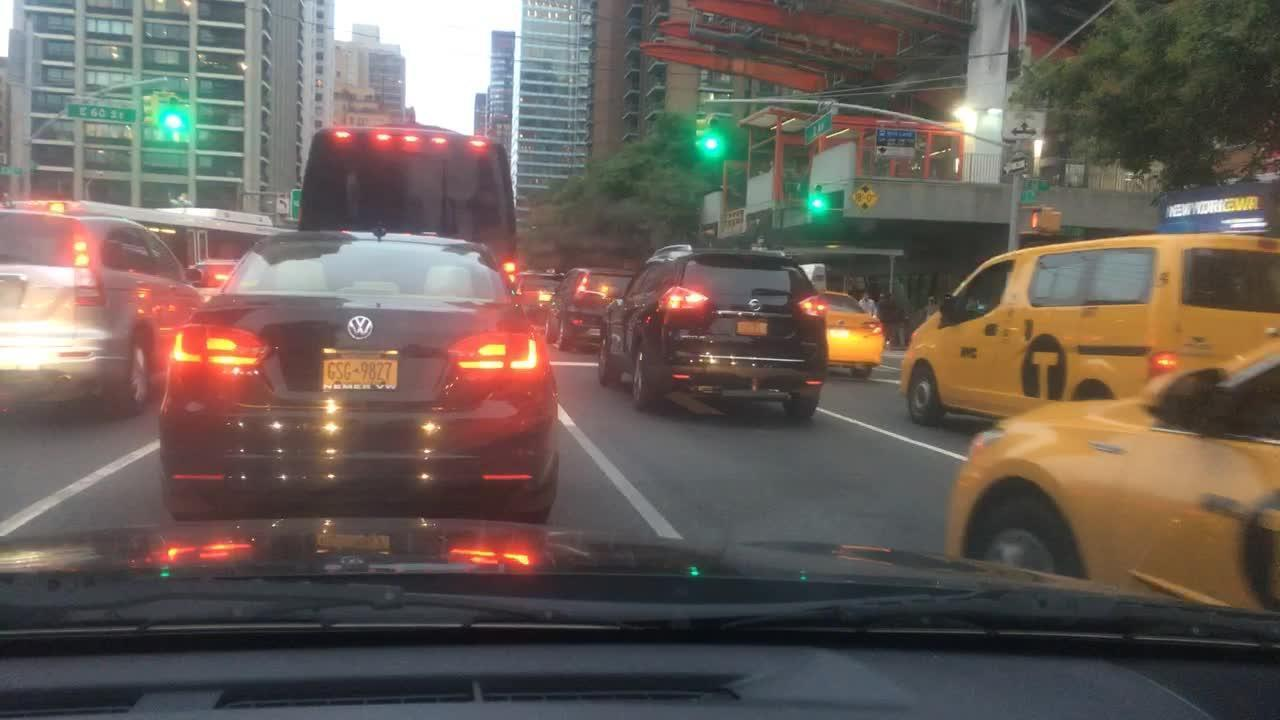Volkswagen: (336, 306, 394, 357)
